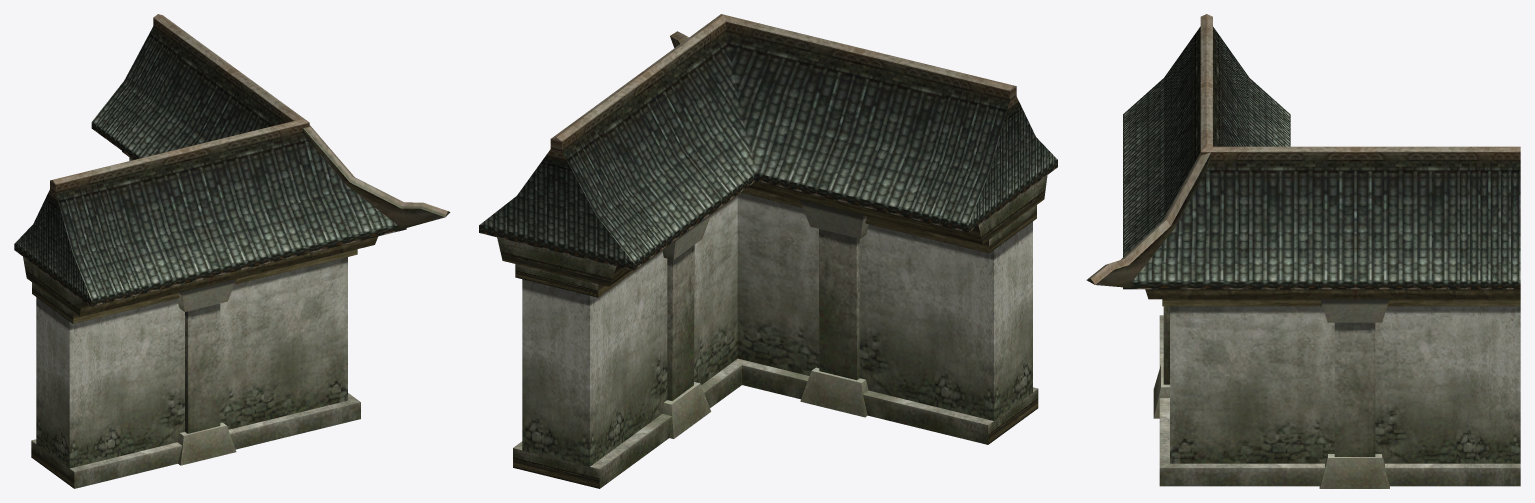
File: ob-10-02-wall-corner.fbx
3 views of the same model, side by side, from view 1: azimuth 30°, elevation 25°; view 2: azimuth 150°, elevation 25°; view 3: azimuth 270°, elevation 25° (orthographic). The views are drawn at different scales.
Visible parts, largest first — view 1: Sphere01; view 2: Sphere01; view 3: Sphere01.
Boxes of the visible parts, x1,y1,x2,y2 form: Sphere01: [14, 14, 450, 488]; Sphere01: [479, 14, 1057, 488]; Sphere01: [1086, 14, 1520, 488].
Bounding box in the file's own units: 5.56 × 4.5 × 5.54.
